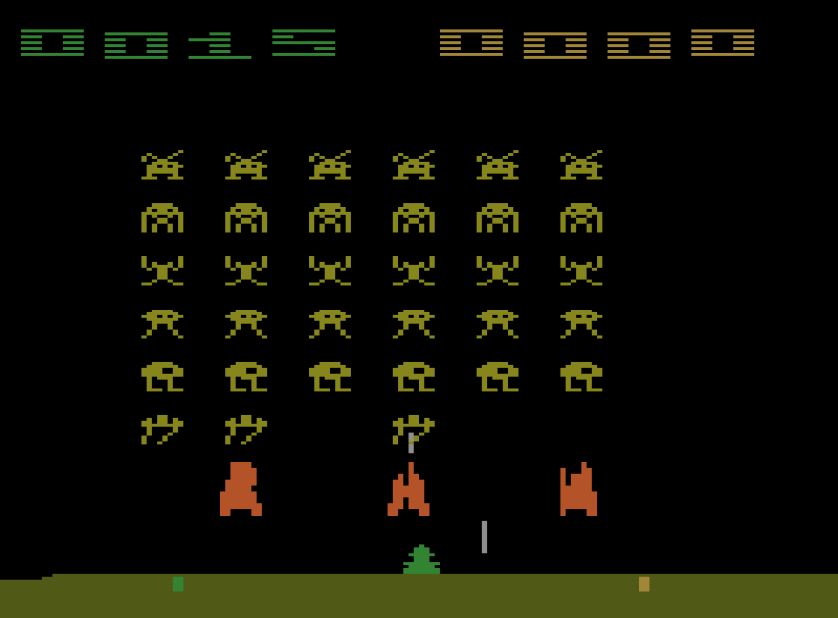bullet: (479, 518, 489, 556), (407, 430, 415, 456)
invader1: (306, 148, 354, 182), (223, 148, 270, 182), (392, 148, 438, 182), (475, 148, 521, 182), (139, 148, 186, 181), (559, 148, 605, 181)
invader2: (474, 201, 520, 235), (307, 201, 353, 234), (390, 202, 437, 234), (557, 202, 604, 234), (224, 201, 269, 234), (140, 201, 184, 234)
invader3: (307, 253, 354, 289), (139, 253, 186, 288), (391, 253, 437, 288), (223, 254, 270, 288), (558, 254, 604, 288), (475, 254, 520, 288)
invader4: (139, 307, 186, 342), (475, 307, 520, 342), (224, 307, 270, 341), (391, 307, 437, 341), (558, 307, 604, 341), (307, 308, 353, 341)
invader5: (390, 358, 437, 394), (306, 358, 353, 393), (475, 360, 521, 394), (558, 360, 605, 393), (139, 360, 185, 393), (225, 360, 269, 393)
invader6: (221, 412, 270, 447), (139, 411, 186, 447), (390, 412, 437, 447)
player: (401, 541, 442, 575)
